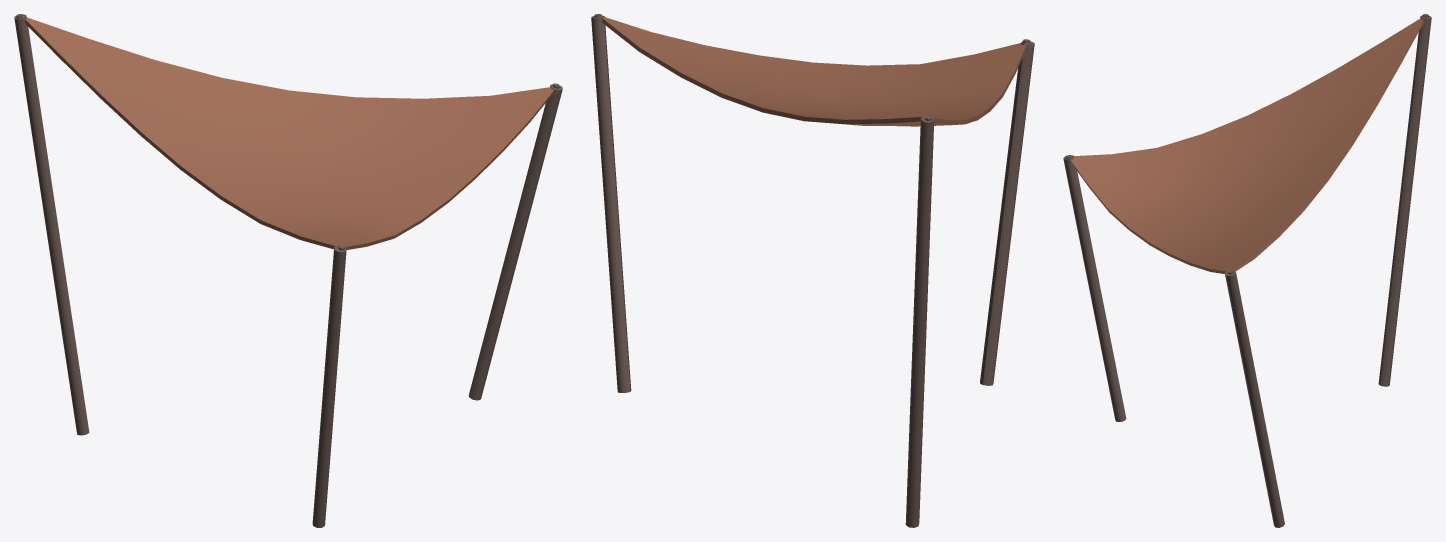
The model's file is Amb5_Sombrilla1.fbx.
3 renders of one model, left to right at view 1: azimuth 30°, elevation 25°; view 2: azimuth 150°, elevation 25°; view 3: azimuth 270°, elevation 25°, orthographic. The views are drawn at different scales.
Visible parts, largest first — view 1: Amb5_Sombrilla1; view 2: Amb5_Sombrilla1; view 3: Amb5_Sombrilla1.
Part boxes in pixels (box(x1,y1,x2,y2)): Amb5_Sombrilla1: box(14, 14, 562, 527); Amb5_Sombrilla1: box(591, 14, 1034, 527); Amb5_Sombrilla1: box(1063, 14, 1431, 527).
Size of the model in its own units: 331 by 300 by 282.
